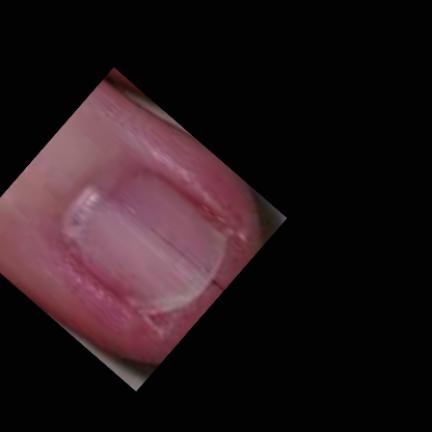Nail: (64, 162, 226, 315)
